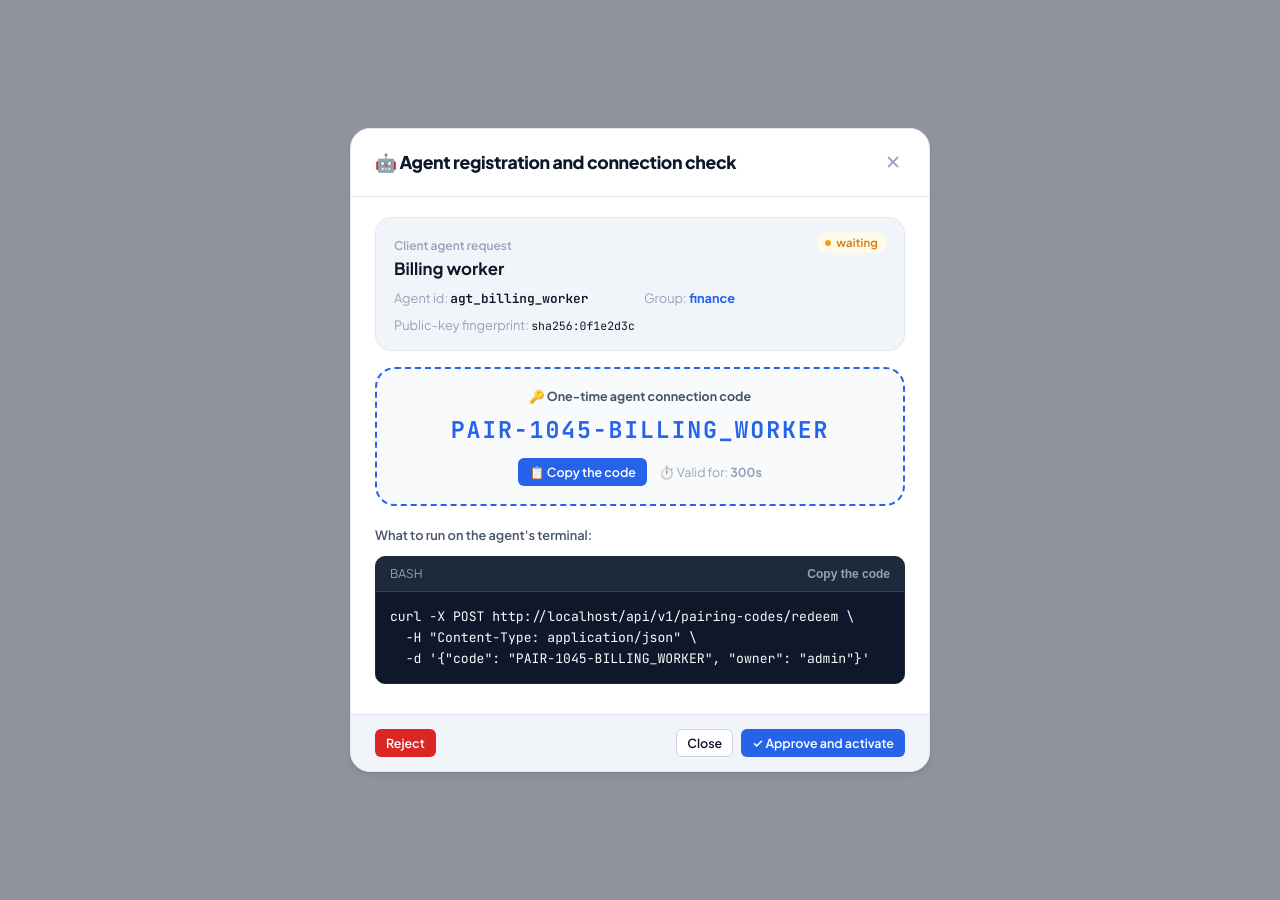
AgentPairingModal — the code it shows › copies the code that is on the screen, and says it has
Click the button "📋 Copy the code": (582, 472) 518,458 -> 647,486
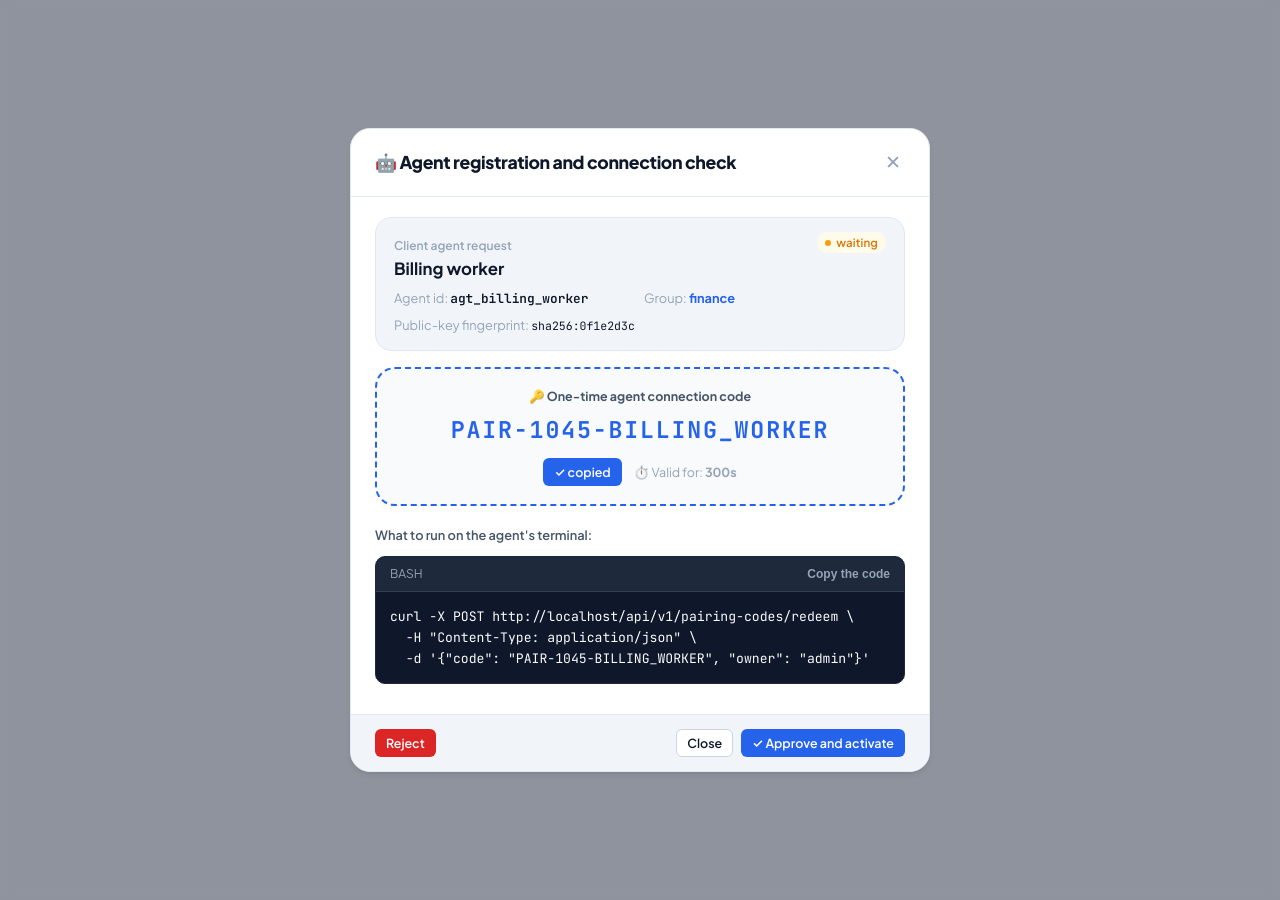
Now the button "✓ copied" is shown, box 543,458 -> 622,486
